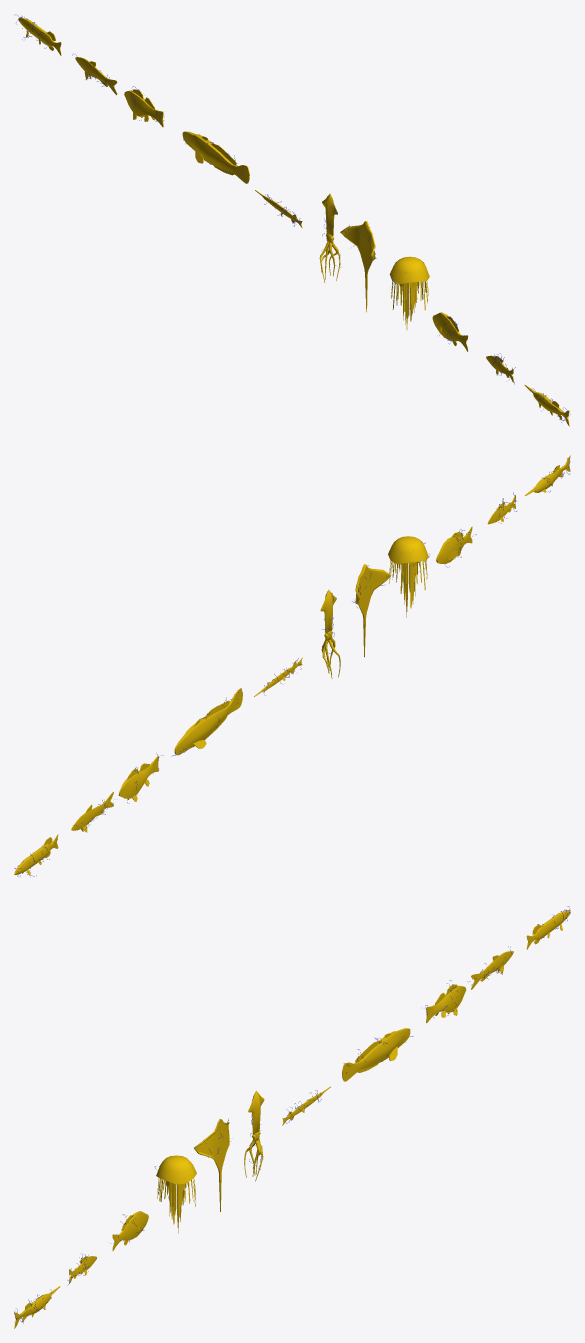
Rendered from fish_wires.fbx.
3 views of the same model, one above another, from view 1: azimuth 30°, elevation 25°; view 2: azimuth 150°, elevation 25°; view 3: azimuth 330°, elevation 25° (orthographic).
Visible parts, largest first — view 1: fish_wires.010, fish_wires.006, fish_wires.003, fish_wires.004, fish_wires.007, fish_wires.002, fish_wires.009; view 2: fish_wires.010, fish_wires.006, fish_wires.003, fish_wires.007, fish_wires.004, fish_wires.002, fish_wires.009; view 3: fish_wires.010, fish_wires.006, fish_wires.003, fish_wires.004, fish_wires.007, fish_wires.002, fish_wires.009.
Part boxes in pixels (x1,y1,x2,y2): fish_wires.010: [389, 256, 429, 329]; fish_wires.006: [182, 131, 249, 183]; fish_wires.003: [340, 221, 375, 312]; fish_wires.004: [319, 193, 340, 282]; fish_wires.007: [124, 89, 163, 127]; fish_wires.002: [432, 312, 468, 351]; fish_wires.009: [18, 17, 61, 55]; fish_wires.010: [388, 536, 428, 617]; fish_wires.006: [174, 688, 242, 755]; fish_wires.003: [355, 564, 391, 657]; fish_wires.007: [118, 755, 158, 801]; fish_wires.004: [320, 589, 340, 678]; fish_wires.002: [436, 526, 472, 563]; fish_wires.009: [14, 834, 58, 875]; fish_wires.010: [156, 1155, 196, 1233]; fish_wires.006: [342, 1028, 410, 1081]; fish_wires.003: [194, 1119, 229, 1211]; fish_wires.004: [244, 1090, 264, 1181]; fish_wires.007: [426, 984, 466, 1023]; fish_wires.002: [112, 1211, 148, 1250]; fish_wires.009: [526, 910, 570, 949].
Bounding box in the file's own units: 58.33 × 139 × 1493.
